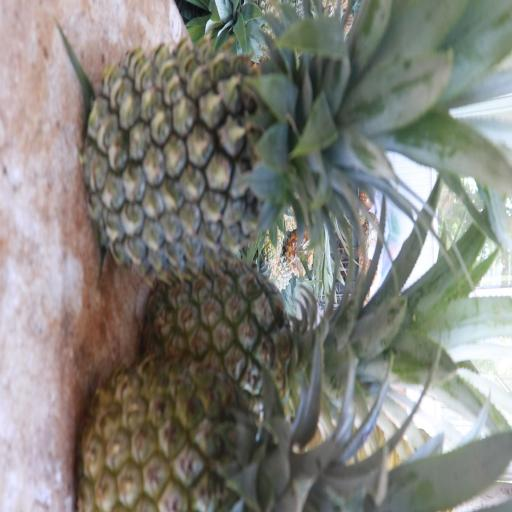------------------------------: (71, 361, 416, 512), (142, 241, 380, 436)
